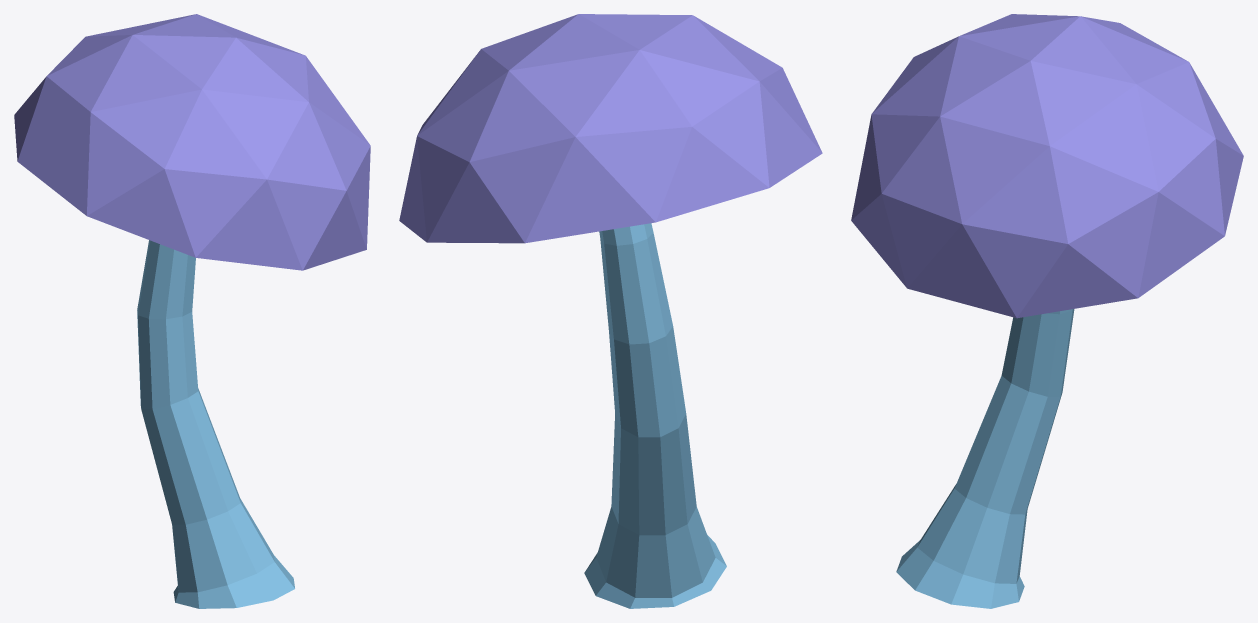
File: True_Mushroom_2.fbx
3 renders of one model, left to right at view 1: azimuth 30°, elevation 25°; view 2: azimuth 150°, elevation 25°; view 3: azimuth 270°, elevation 25°, orthographic. The views are drawn at different scales.
Visible parts, largest first — view 1: Icosphere.001; view 2: Icosphere.001; view 3: Icosphere.001.
Part boxes in pixels (x1,y1,x2,y2): Icosphere.001: (14,14,370,608); Icosphere.001: (399,14,822,608); Icosphere.001: (851,14,1243,608).
Bounding box in the file's own units: 12097 × 19369 × 12488.
